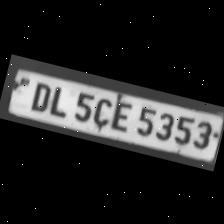3: (188, 116, 217, 151), (150, 106, 176, 142)
5: (67, 86, 97, 123), (130, 101, 160, 137), (168, 111, 196, 146)
C: (88, 90, 114, 127)
D: (24, 78, 54, 112)
E: (106, 95, 136, 131)
L: (44, 80, 72, 116)
